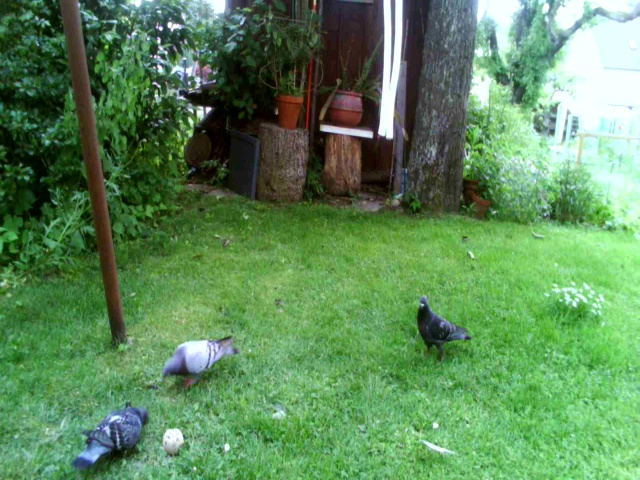Pigeon: (72, 403, 155, 471), (156, 339, 242, 393), (410, 293, 472, 366)
